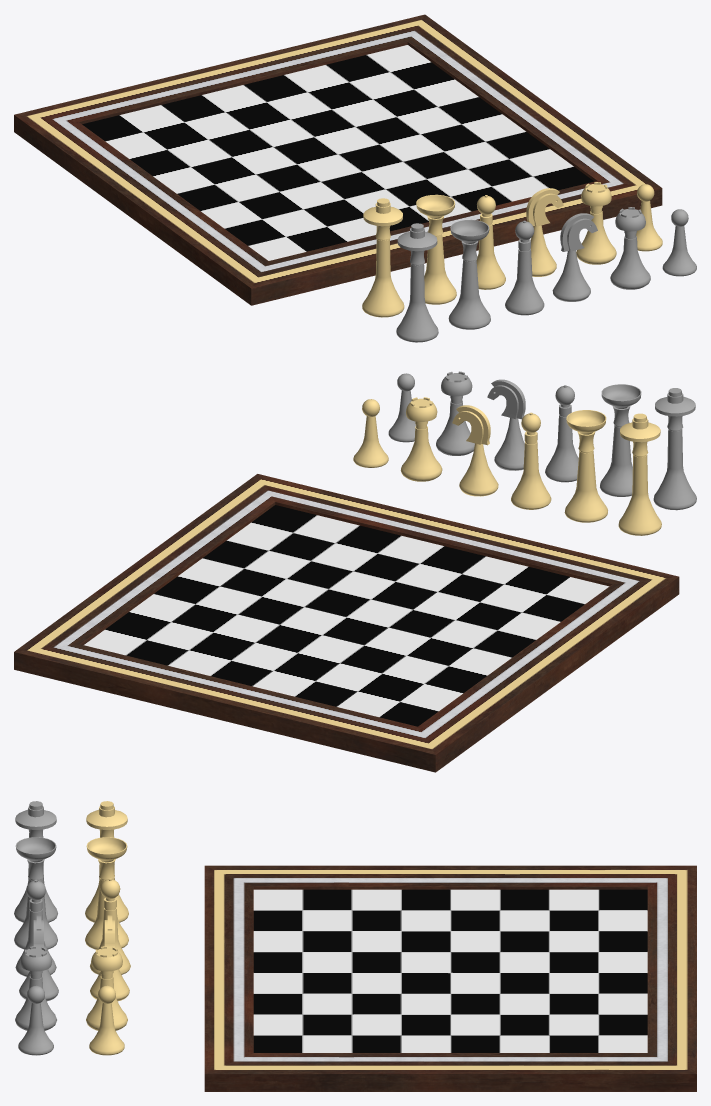
The model's file is Chess Model 2.fbx.
3 views of the same model, one above another, from view 1: azimuth 30°, elevation 25°; view 2: azimuth 150°, elevation 25°; view 3: azimuth 270°, elevation 25° (orthographic). The views are drawn at different scales.
Parts seen in each view (by area): view 1: chessboard_Model2_LOD0, Silver_King_LOD0, Gold_King_LOD0, Silver_Queen_LOD0, Gold_Queen_LOD0, Silver_Knight_LOD0, Silver_Rook_LOD0, Silver_Bishop_LOD0, Gold_Rook_LOD0, Gold_Knight_LOD0, Gold_Bishop_LOD0, Silver_Pawn_LOD0 (+1 smaller); view 2: chessboard_Model2_LOD0, Gold_King_LOD0, Silver_King_LOD0, Gold_Queen_LOD0, Silver_Queen_LOD0, Gold_Knight_LOD0, Gold_Rook_LOD0, Silver_Knight_LOD0, Gold_Bishop_LOD0, Silver_Rook_LOD0, Silver_Bishop_LOD0, Gold_Pawn_LOD0 (+1 smaller); view 3: chessboard_Model2_LOD0, Gold_Queen_LOD0, Silver_Queen_LOD0, Gold_Rook_LOD0, Silver_Rook_LOD0, Silver_King_LOD0, Gold_King_LOD0, Silver_Pawn_LOD0, Gold_Pawn_LOD0, Gold_Bishop_LOD0, Silver_Bishop_LOD0, Silver_Knight_LOD0 (+1 smaller).
Part boxes in pixels (x1,y1,x2,y2): chessboard_Model2_LOD0: (14,14,662,305); Silver_King_LOD0: (396,223,438,342); Gold_King_LOD0: (362,198,404,317); Silver_Queen_LOD0: (448,219,490,329); Gold_Queen_LOD0: (416,194,456,304); Silver_Knight_LOD0: (552,213,597,301); Silver_Rook_LOD0: (610,207,650,289); Silver_Bishop_LOD0: (505,220,544,315); Gold_Rook_LOD0: (576,182,616,264); Gold_Knight_LOD0: (526,188,563,276); Gold_Bishop_LOD0: (476,195,505,289); Silver_Pawn_LOD0: (662,209,696,276); chessboard_Model2_LOD0: (14,474,679,772); Gold_King_LOD0: (618,413,661,535); Silver_King_LOD0: (653,388,696,510); Gold_Queen_LOD0: (564,410,607,522); Silver_Queen_LOD0: (600,384,641,496); Gold_Knight_LOD0: (452,405,498,496); Gold_Rook_LOD0: (400,397,442,481); Silver_Knight_LOD0: (487,379,525,470); Gold_Bishop_LOD0: (511,412,551,509); Silver_Rook_LOD0: (436,371,474,455); Silver_Bishop_LOD0: (545,385,578,482); Gold_Pawn_LOD0: (353,399,388,467); chessboard_Model2_LOD0: (204,865,696,1091); Gold_Queen_LOD0: (85,837,128,949); Silver_Queen_LOD0: (14,837,57,949); Gold_Rook_LOD0: (86,946,127,1030); Silver_Rook_LOD0: (15,946,56,1030); Silver_King_LOD0: (14,801,57,922); Gold_King_LOD0: (85,801,128,922); Silver_Pawn_LOD0: (18,985,53,1055); Gold_Pawn_LOD0: (89,985,124,1055); Gold_Bishop_LOD0: (90,878,130,974); Silver_Bishop_LOD0: (15,879,56,976); Silver_Knight_LOD0: (19,915,58,1001).
Bounding box in the file's own units: 100 × 139 × 27.54.
